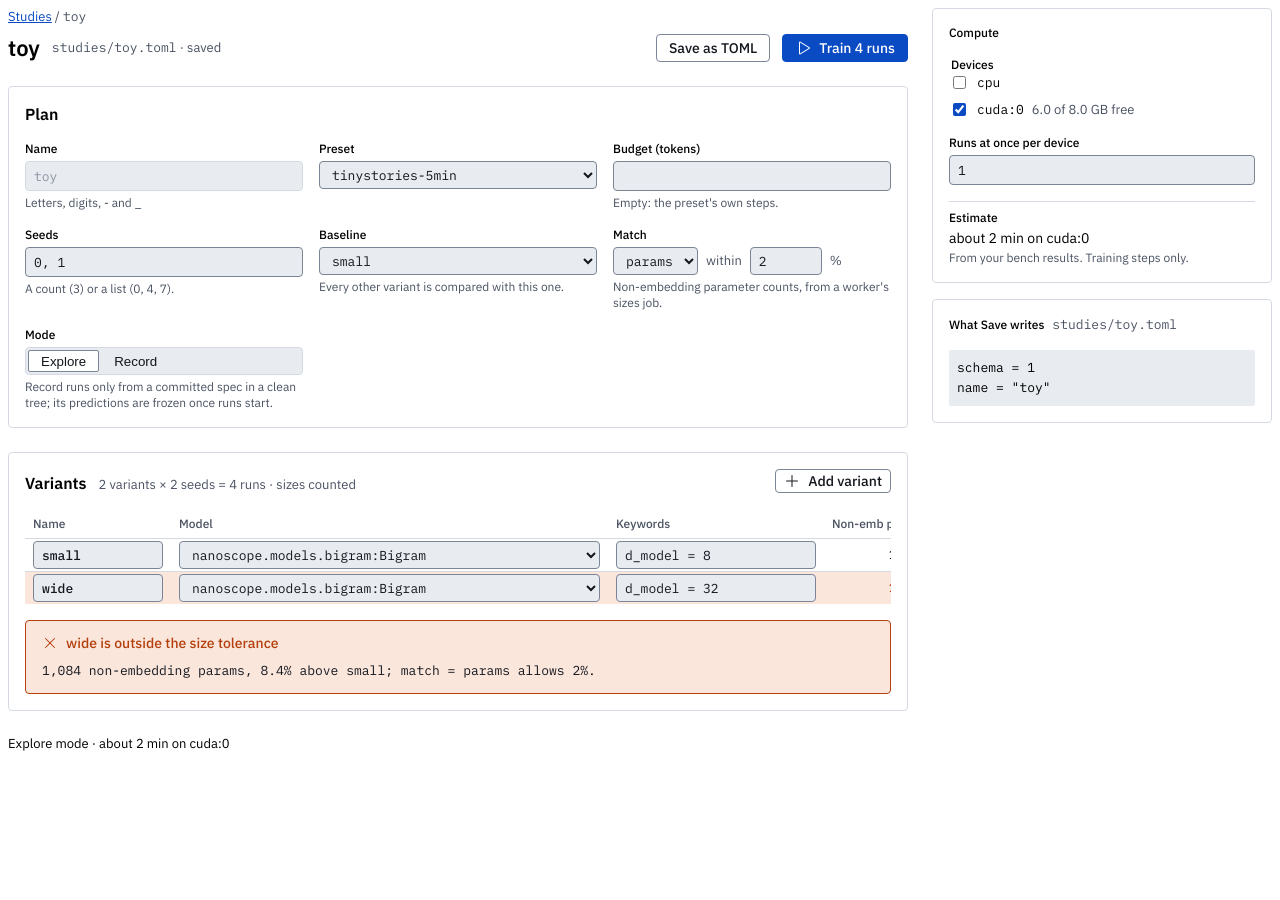
StudyBuilder › sends the typed spec for judging, with devices and runs per device for the estimate
Expected: the field showing "wide" is shown, [33,574,163,602]
Step 1. Replace the text in the field named "Keywords of wide" with "d_model = 16" → (716, 588), box [616,574,816,602]
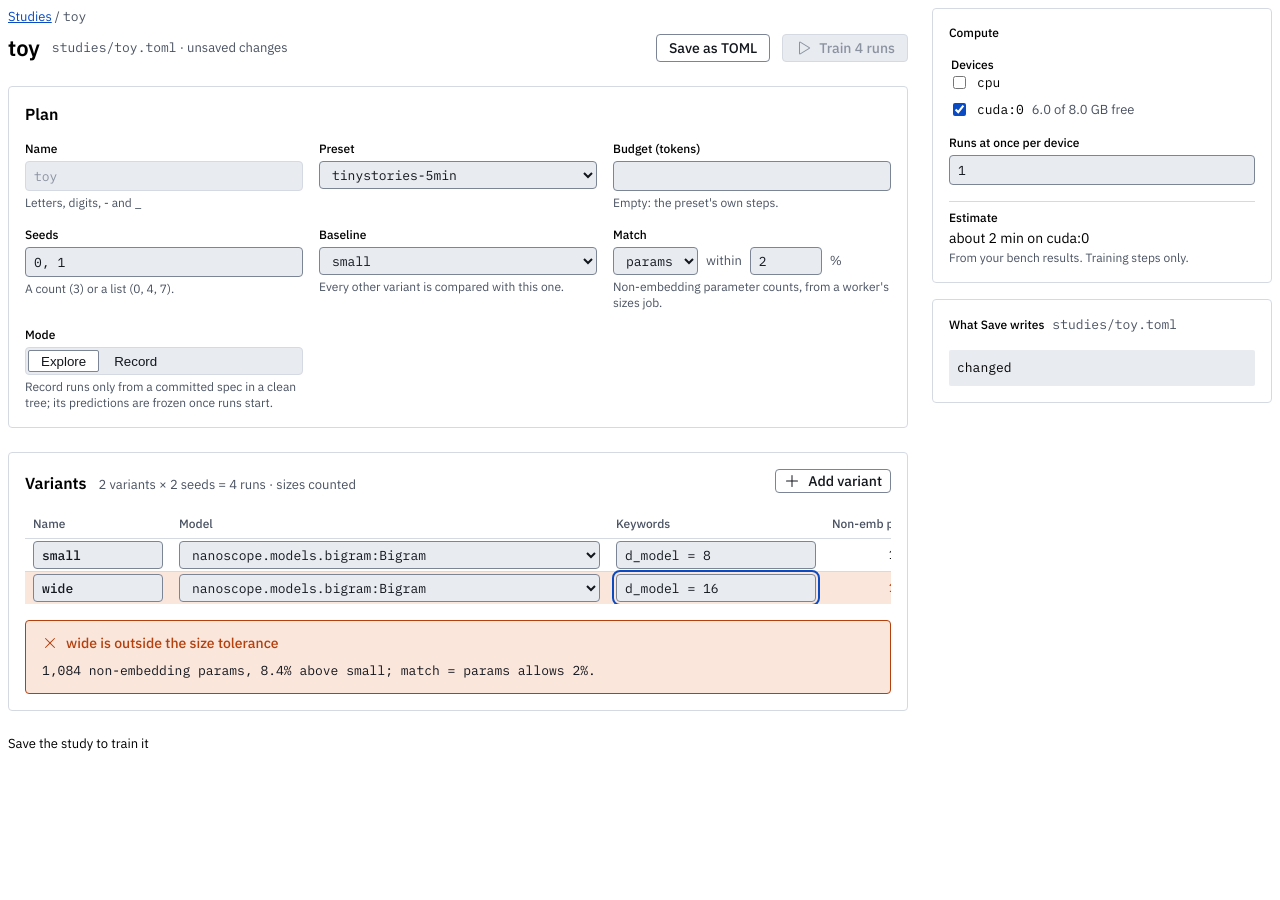
Expected: the text "studies/toy.toml · unsaved changes" is shown, [52,39,288,57]
